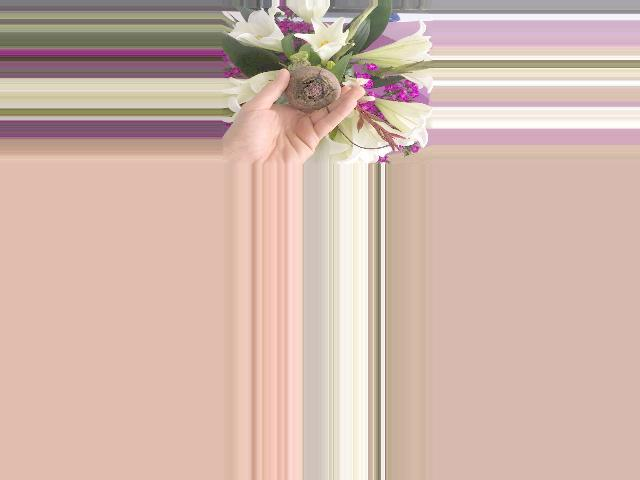beet: (285, 66, 342, 112)
